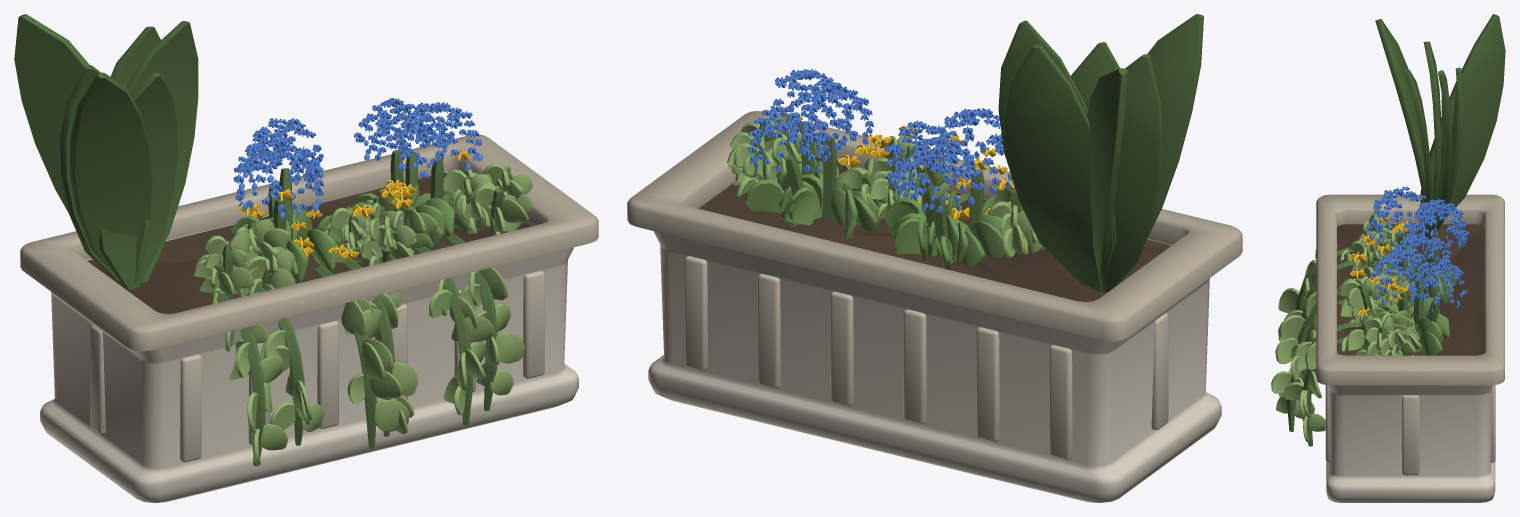
Rendered from bac_hortensias.glb.
3 views of the same model, side by side, from view 1: azimuth 30°, elevation 25°; view 2: azimuth 150°, elevation 25°; view 3: azimuth 270°, elevation 25° (orthographic). The views are drawn at different scales.
Visible parts, largest first — view 1: MXB_Maconnerie, MXB_Feuille_Fonce, MXB_Feuille_Clair, MXB_Couronnement, MXB_Tige, MXB_Fl_Bleu, MXB_Nervures, MXB_Terre, MXB_Feuille_Moyen, MXB_Fl_Jaune; view 2: MXB_Maconnerie, MXB_Feuille_Fonce, MXB_Couronnement, MXB_Nervures, MXB_Fl_Bleu, MXB_Feuille_Moyen, MXB_Terre, MXB_Feuille_Clair, MXB_Tige, MXB_Fl_Jaune; view 3: MXB_Maconnerie, MXB_Couronnement, MXB_Feuille_Fonce, MXB_Feuille_Clair, MXB_Terre, MXB_Fl_Bleu, MXB_Tige, MXB_Feuille_Moyen, MXB_Nervures, MXB_Fl_Jaune.
Part boxes in pixels (left/top/right/bottom): MXB_Maconnerie: left=40, top=172, right=578, bottom=502; MXB_Feuille_Fonce: left=14, top=14, right=198, bottom=290; MXB_Feuille_Clair: left=193, top=163, right=533, bottom=464; MXB_Couronnement: left=20, top=134, right=598, bottom=351; MXB_Tige: left=212, top=150, right=512, bottom=466; MXB_Fl_Bleu: left=233, top=98, right=483, bottom=219; MXB_Nervures: left=90, top=270, right=544, bottom=462; MXB_Terre: left=87, top=173, right=531, bottom=313; MXB_Feuille_Moyen: left=231, top=184, right=468, bottom=283; MXB_Fl_Jaune: left=226, top=149, right=469, bottom=259; MXB_Maconnerie: left=648, top=190, right=1221, bottom=502; MXB_Feuille_Fonce: left=998, top=14, right=1203, bottom=292; MXB_Couronnement: left=627, top=111, right=1242, bottom=341; MXB_Nervures: left=685, top=256, right=1168, bottom=459; MXB_Fl_Bleu: left=748, top=68, right=1014, bottom=212; MXB_Feuille_Moyen: left=744, top=160, right=1012, bottom=269; MXB_Terre: left=698, top=157, right=1171, bottom=301; MXB_Feuille_Clair: left=727, top=114, right=1044, bottom=258; MXB_Tige: left=751, top=124, right=1021, bottom=255; MXB_Fl_Jaune: left=784, top=113, right=1014, bottom=220; MXB_Maconnerie: left=1326, top=385, right=1495, bottom=502; MXB_Couronnement: left=1316, top=194, right=1504, bottom=385; MXB_Feuille_Fonce: left=1375, top=14, right=1505, bottom=239; MXB_Feuille_Clair: left=1271, top=208, right=1421, bottom=441; MXB_Terre: left=1337, top=224, right=1484, bottom=355; MXB_Fl_Bleu: left=1366, top=186, right=1468, bottom=312; MXB_Tige: left=1287, top=217, right=1440, bottom=446; MXB_Feuille_Moyen: left=1360, top=254, right=1458, bottom=355; MXB_Nervures: left=1325, top=385, right=1495, bottom=475; MXB_Fl_Jaune: left=1349, top=216, right=1412, bottom=316.
Size of the model in its own units: 1.48 by 1.25 by 0.8204.
